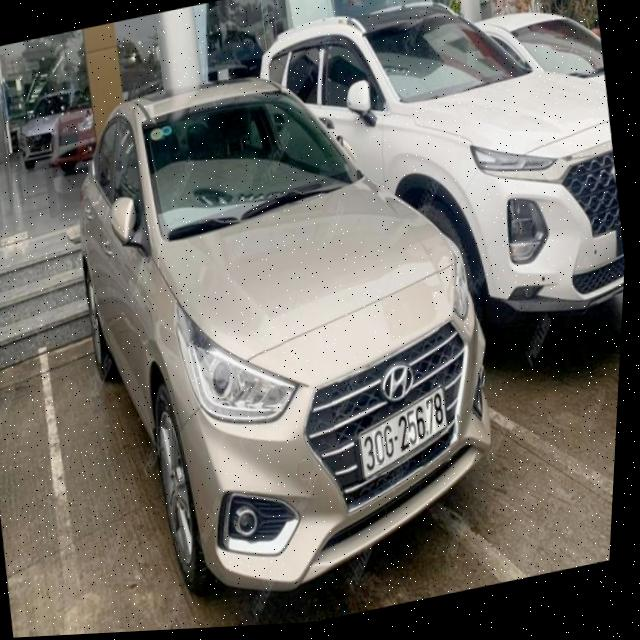car: (35, 18, 548, 633), (275, 0, 640, 393)
plate: (348, 385, 460, 483)
